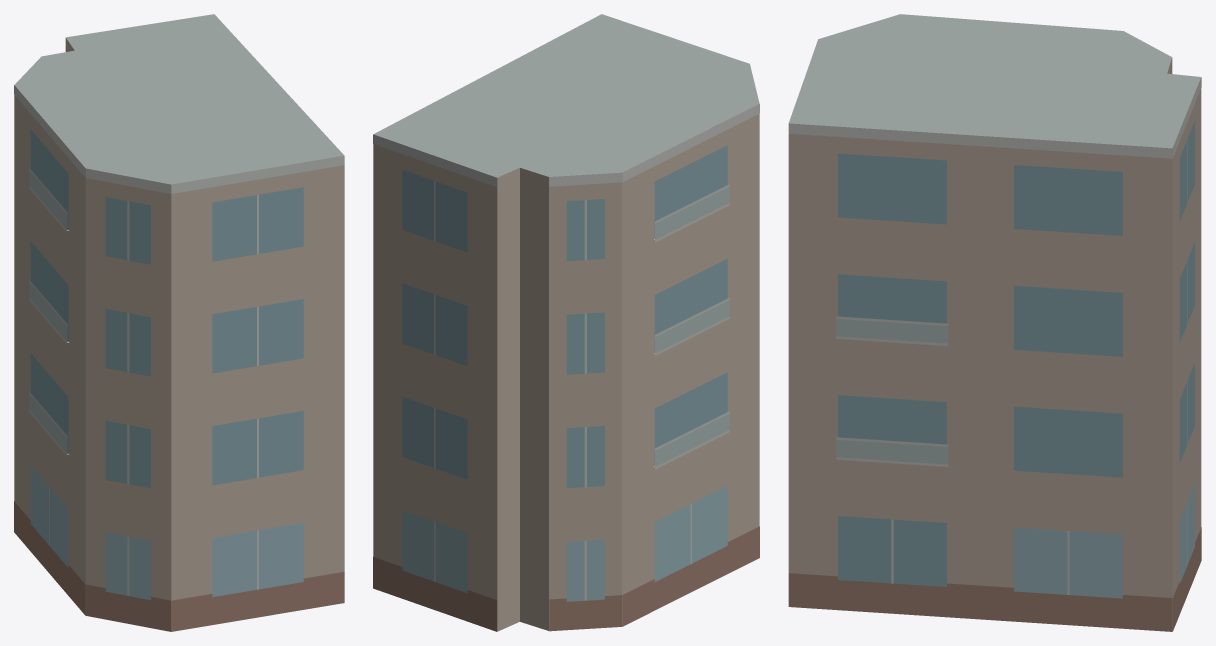
The model's file is survey-upis-32975338.glb.
3 renders of one model, left to right at view 1: azimuth 30°, elevation 25°; view 2: azimuth 150°, elevation 25°; view 3: azimuth 270°, elevation 25°, orthographic. The views are drawn at different scales.
Visible parts, largest first — view 1: survey-upis-32975338.tmp; view 2: survey-upis-32975338.tmp; view 3: survey-upis-32975338.tmp.
Part boxes in pixels (bbox=[...]): survey-upis-32975338.tmp: bbox=[14, 14, 344, 631]; survey-upis-32975338.tmp: bbox=[373, 14, 759, 631]; survey-upis-32975338.tmp: bbox=[788, 14, 1201, 631].
Bounding box in the file's own units: 6.87 × 11.5 × 8.91.
